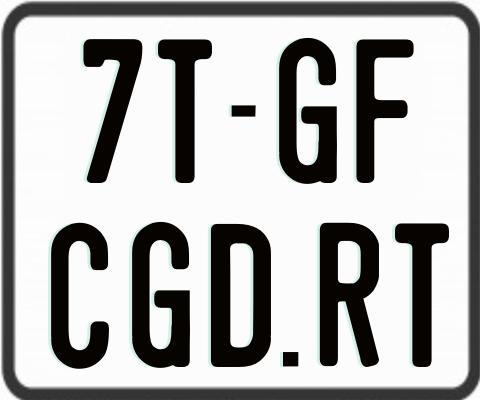7: (80, 39, 144, 188)
C: (48, 223, 110, 370)
D: (210, 223, 270, 369)
F: (354, 39, 413, 187)
G: (277, 38, 337, 188), (131, 221, 192, 367)
R: (317, 222, 376, 369)
T: (158, 36, 218, 180), (393, 220, 447, 367)
